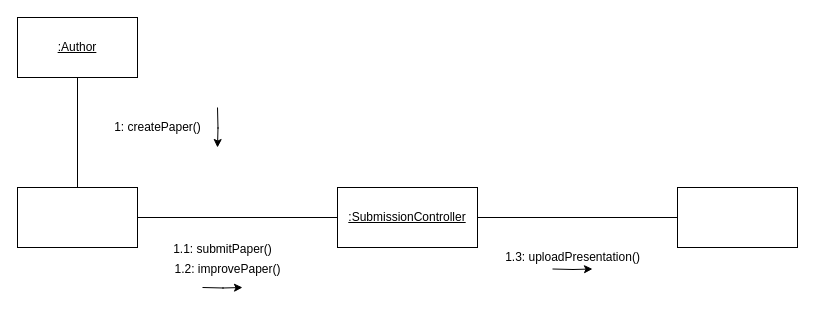
Image size: 815x314. Some labels were removed from this diagram. The shapes that lost their labels are listed below. From the top down, each one's centre as x and y in pixels, then its label:
At (77,217): ":UI".
At (737,217): ":ReviewController".
